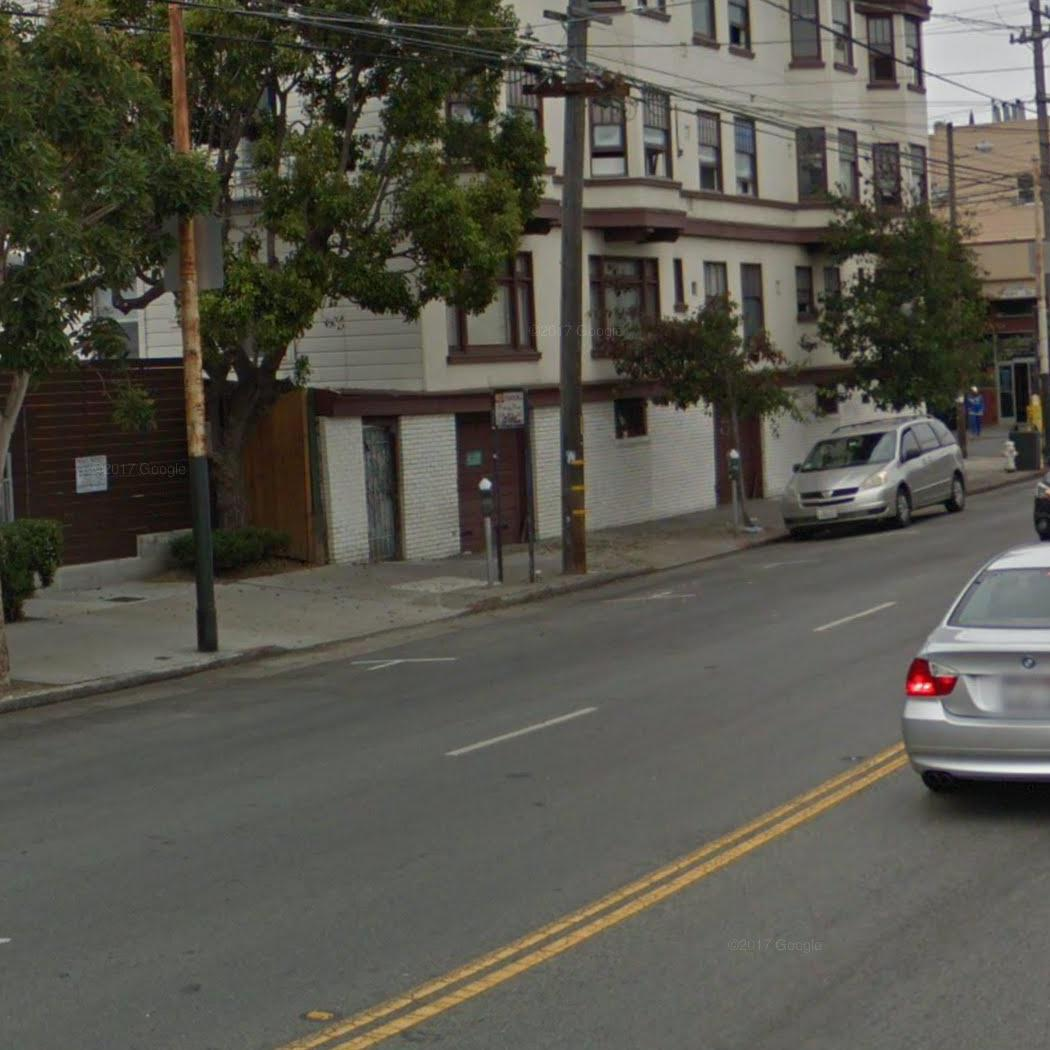No Parking: (488, 387, 528, 431)
